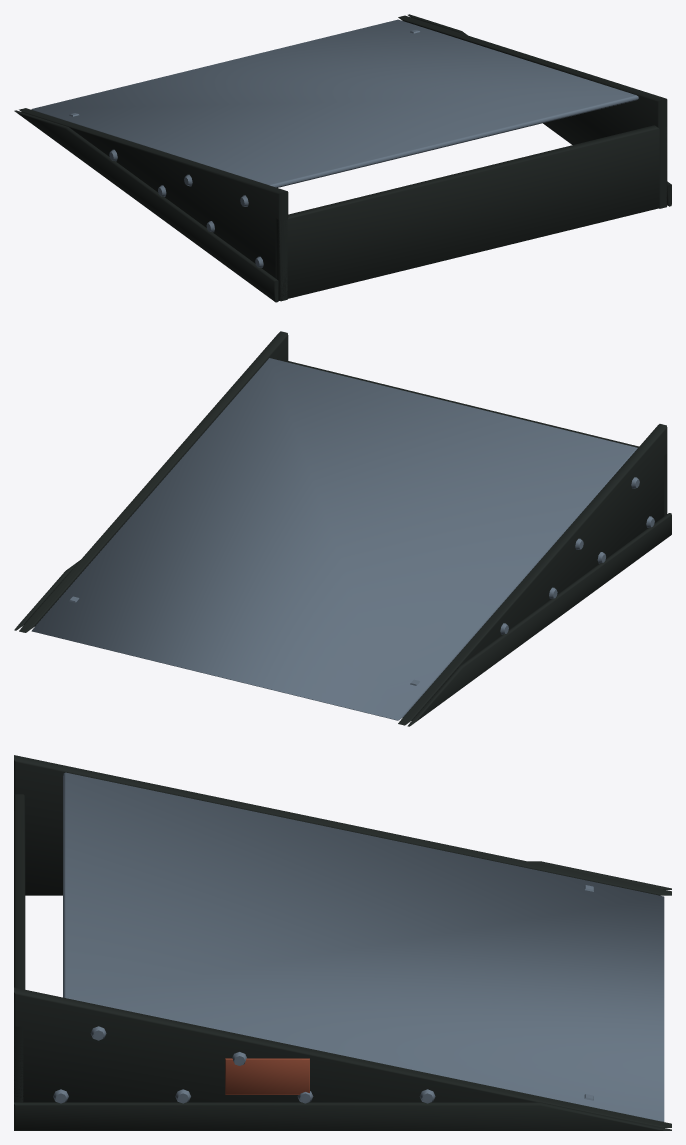
File: kicker_wedge.glb
The picture shows the model from 3 angles, top to bottom: view 1: azimuth 30°, elevation 25°; view 2: azimuth 150°, elevation 25°; view 3: azimuth 270°, elevation 25°; orthographic projection. The views are drawn at different scales.
Visible parts, largest first — view 1: Body; view 2: Body; view 3: Body.
Boxes of the visible parts, x1,y1,x2,y2 form: Body: [14, 14, 671, 302]; Body: [14, 331, 671, 726]; Body: [14, 755, 671, 1130].
Bounding box in the file's own units: 6.14 × 1.6 × 7.
